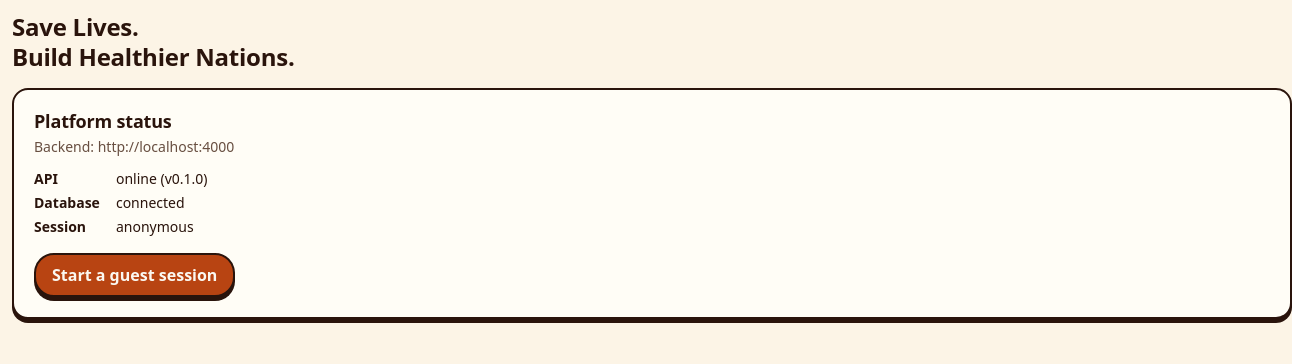
Test case: SetupStatusPage › shows API and database status and starts a guest session
Check: the text "online (v0.1.0)" is shown, box [116,168,208,188]
Check: the text "connected" is shown, box [116,192,185,212]
Click the button "Start a guest session" at (135, 274), box [34,252,235,296]
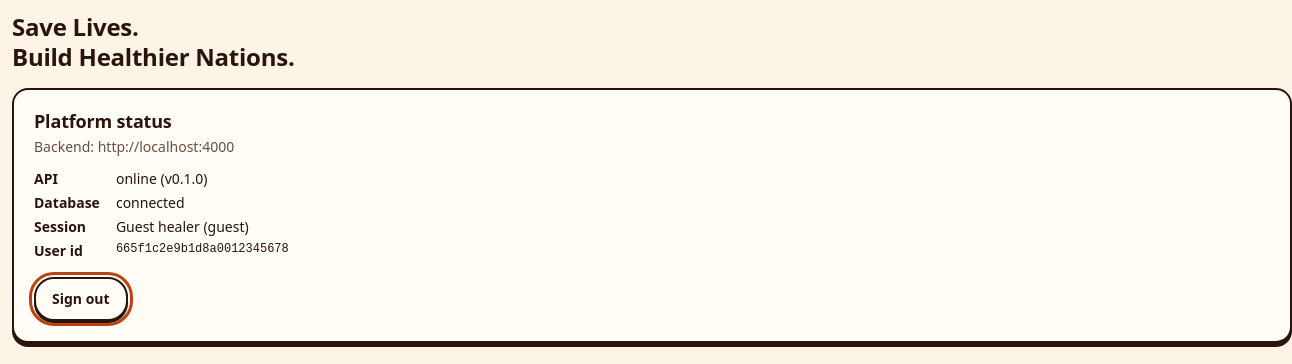
Check: the text with test id "user-id" reads "665f1c2e9b1d8a0012345678", box [116,242,289,256]
Check: the text with test id "session-status" reads "Guest healer (guest)", box [116,216,249,236]
